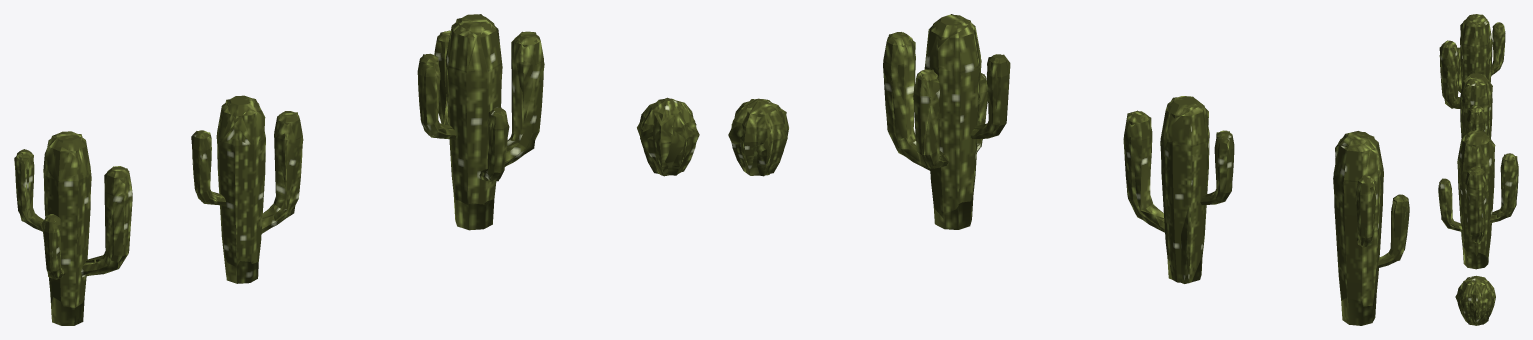
Rendered from Cactus.fbx.
The picture shows the model from 3 angles, left to right: view 1: azimuth 30°, elevation 25°; view 2: azimuth 150°, elevation 25°; view 3: azimuth 270°, elevation 25°; orthographic projection. The views are drawn at different scales.
Parts seen in each view (by area): view 1: CactusC, CactusA, CactusB, CactusCLowPoly, CactusALowPoly, CactusBLowPoly, CactusD, CactusDLowPoly; view 2: CactusC, CactusB, CactusA, CactusCLowPoly, CactusBLowPoly, CactusD, CactusALowPoly, CactusDLowPoly; view 3: CactusC, CactusA, CactusCLowPoly, CactusB, CactusALowPoly, CactusD, CactusBLowPoly, CactusDLowPoly.
Part boxes in pixels (box(x1,y1,x2,y2)): CactusC: box(417, 14, 543, 205); CactusA: box(15, 131, 132, 307); CactusB: box(192, 95, 302, 274); CactusCLowPoly: box(422, 14, 544, 230); CactusALowPoly: box(14, 134, 132, 325); CactusBLowPoly: box(191, 98, 303, 283); CactusD: box(639, 98, 696, 176); CactusDLowPoly: box(637, 97, 699, 175); CactusC: box(883, 14, 1008, 218); CactusB: box(1124, 96, 1234, 282); CactusA: box(1333, 131, 1409, 306); CactusCLowPoly: box(883, 14, 1010, 229); CactusBLowPoly: box(1123, 96, 1232, 283); CactusD: box(731, 98, 788, 176); CactusALowPoly: box(1333, 131, 1408, 325); CactusDLowPoly: box(728, 99, 787, 175); CactusC: box(1438, 130, 1518, 257); CactusA: box(1439, 14, 1505, 108); CactusCLowPoly: box(1439, 130, 1517, 269); CactusB: box(1460, 73, 1492, 138); CactusALowPoly: box(1439, 14, 1504, 108); CactusD: box(1457, 275, 1495, 325); CactusBLowPoly: box(1459, 73, 1492, 130); CactusDLowPoly: box(1455, 276, 1493, 325).
Bounding box in the file's own units: 6.04 × 1.76 × 0.9851.
